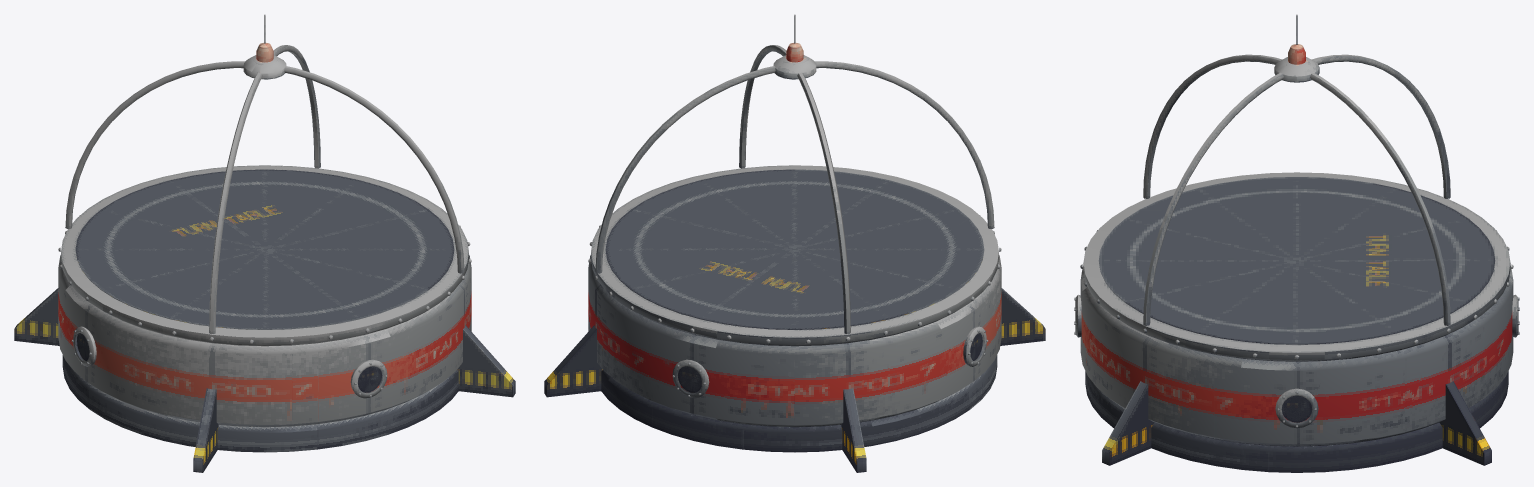
Rendered from pod2_own.glb.
The picture shows the model from 3 angles, left to right: view 1: azimuth 30°, elevation 25°; view 2: azimuth 150°, elevation 25°; view 3: azimuth 270°, elevation 25°; orthographic projection. The views are drawn at different scales.
Parts seen in each view (by area): view 1: mesh; view 2: mesh; view 3: mesh.
Boxes of the visible parts, box(x1,y1,x2,y2) form: mesh: box(14, 14, 515, 472); mesh: box(544, 14, 1045, 472); mesh: box(1074, 14, 1519, 472).
Bounding box in the file's own units: 0.989 × 0.905 × 0.989.
Materials: 1 (1 with a texture image).
